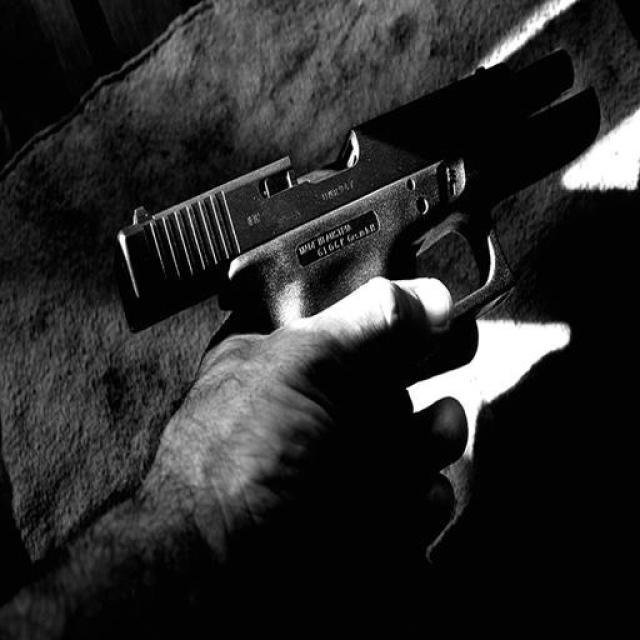pistol: (107, 22, 615, 360)
